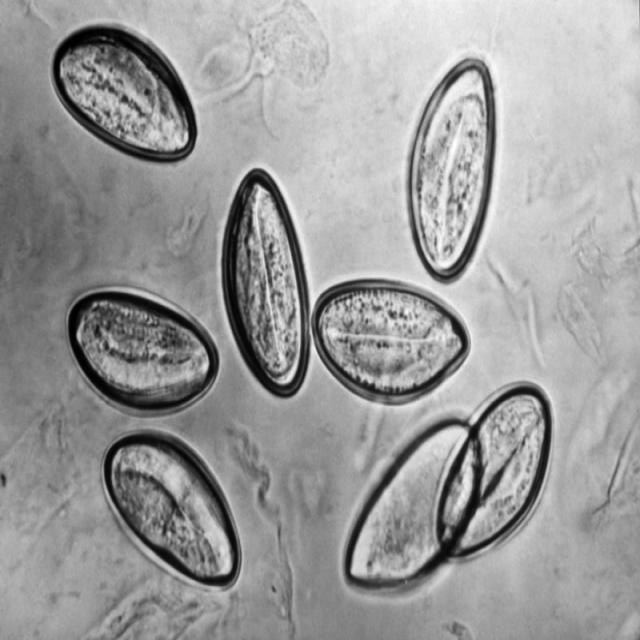Enterobius Vermicularis: (338, 412, 484, 598), (95, 422, 245, 593), (45, 11, 199, 168), (432, 376, 556, 570), (214, 163, 314, 398), (402, 47, 499, 283), (308, 278, 474, 411), (64, 284, 220, 417)
